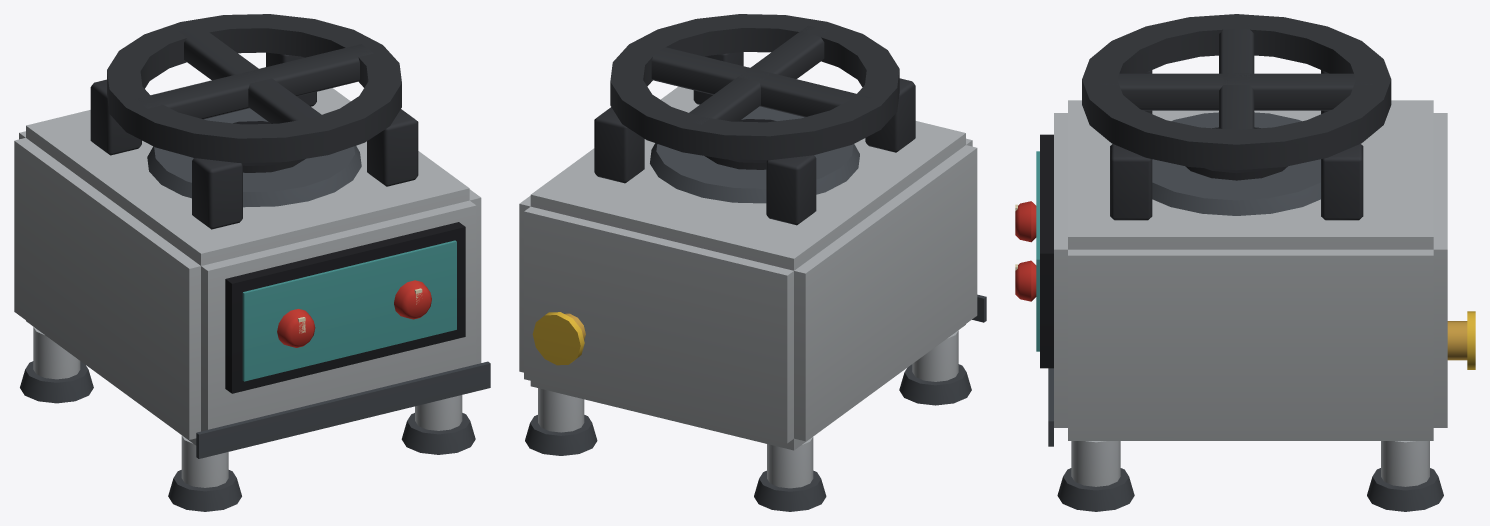
The model's file is SM_StockPotRange_05.glb.
The picture shows the model from 3 angles, left to right: view 1: azimuth 30°, elevation 25°; view 2: azimuth 150°, elevation 25°; view 3: azimuth 270°, elevation 25°; orthographic projection. The views are drawn at different scales.
Visible parts, largest first — view 1: SM_StockPotRange_05; view 2: SM_StockPotRange_05; view 3: SM_StockPotRange_05.
Boxes of the visible parts, x1=… form: SM_StockPotRange_05: x1=14, y1=14, x2=490, y2=511; SM_StockPotRange_05: x1=519, y1=14, x2=986, y2=511; SM_StockPotRange_05: x1=1015, y1=14, x2=1475, y2=511.
Bounding box in the file's own units: 0.51 × 0.56 × 0.655.
1 material, 1 textured.
